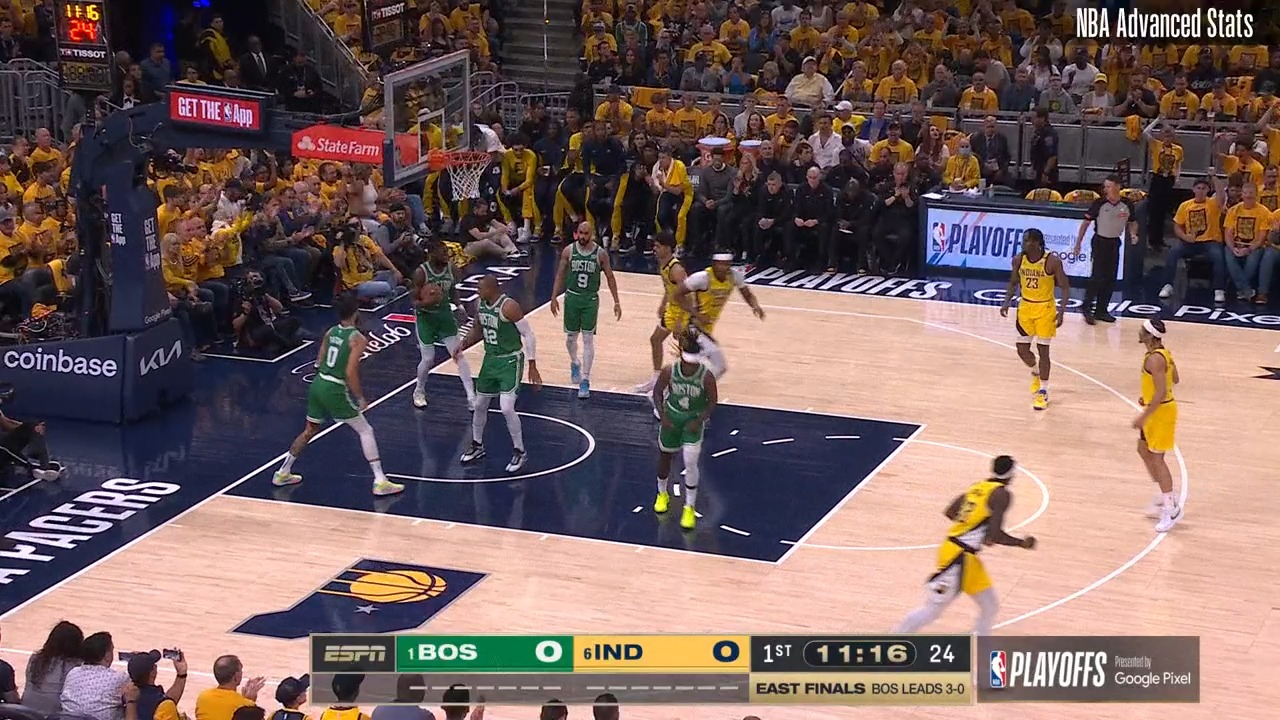basketball: (419, 281, 443, 307)
